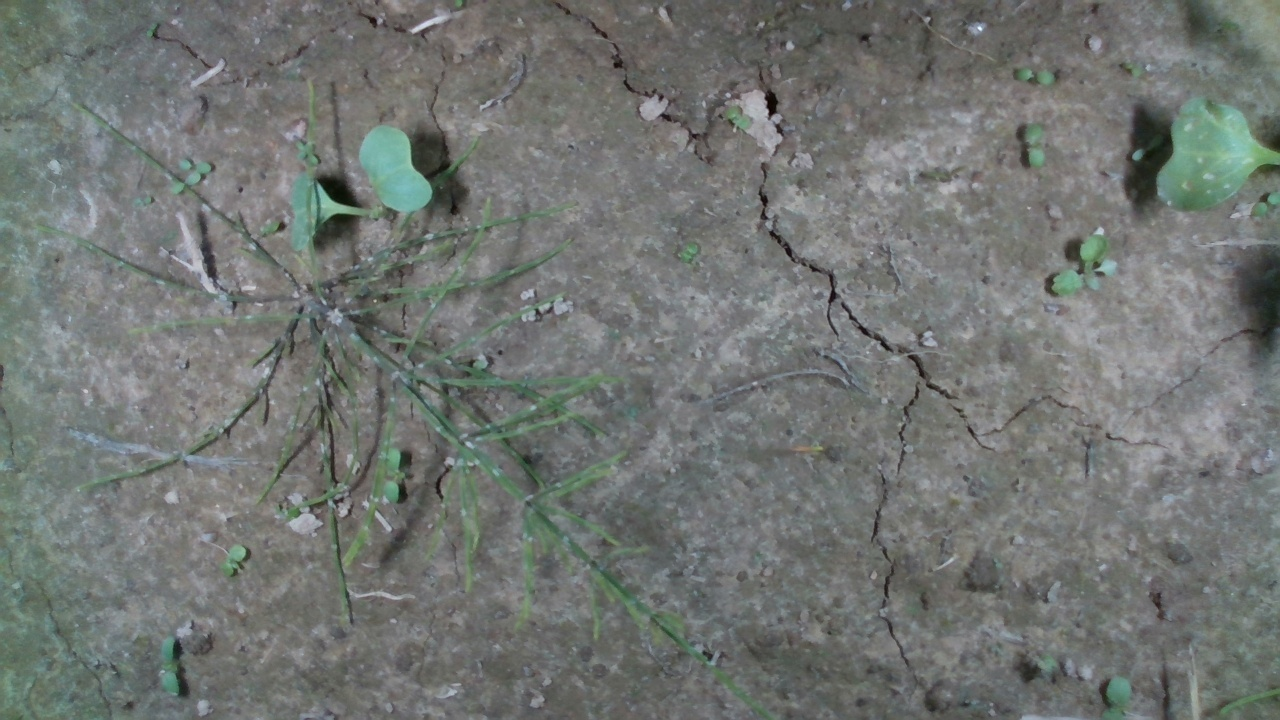weed: (1049, 231, 1121, 298), (158, 633, 181, 699), (1021, 121, 1047, 170), (1011, 66, 1055, 87), (222, 542, 247, 578), (721, 103, 753, 130), (677, 240, 700, 265), (1122, 58, 1145, 80)
